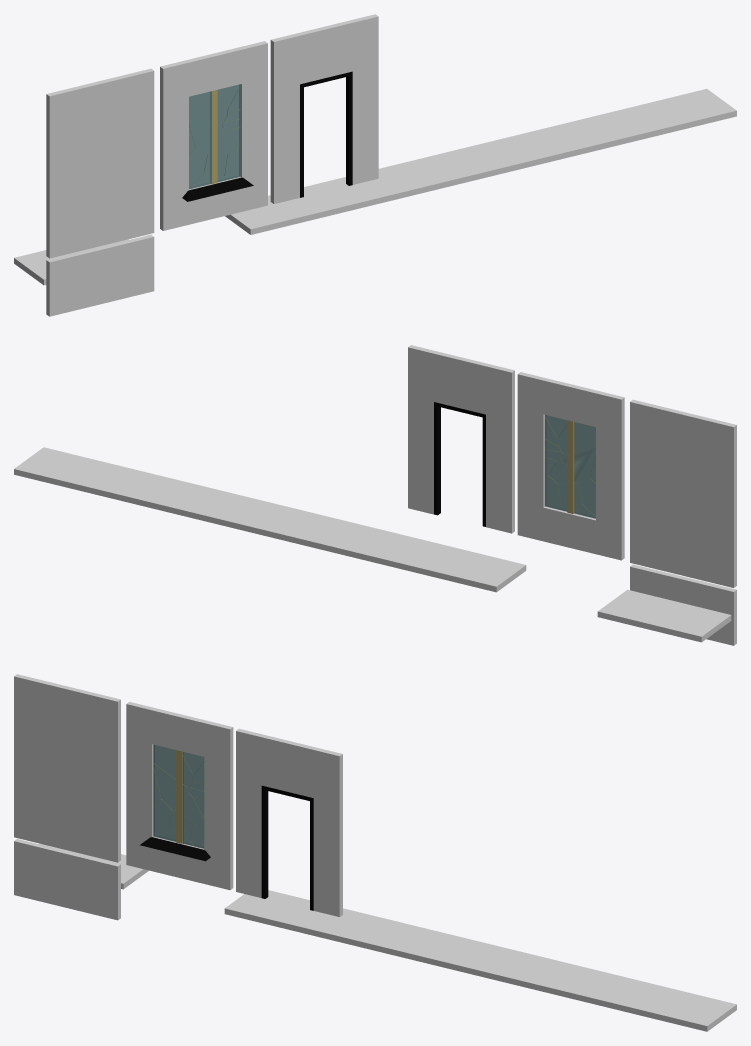
Rendered from BuildPartsTest.fbx.
3 renders of one model, top to bottom at view 1: azimuth 30°, elevation 25°; view 2: azimuth 150°, elevation 25°; view 3: azimuth 330°, elevation 25°, orthographic.
Parts seen in each view (by area): view 1: BuildWall, BuildWindowFrame, BuildDoorFrame1, BuildDown, BuildWindow, BuildFloor_Ceiling1, BuildFrame, BuildFloor_Ceiling1_cell.023, BuildFloor_Ceiling1_cell.009, BuildFloor_Ceiling1_cell.031, BuildFloor_Ceiling, BuildFloor_Ceiling1_cell.016 (+13 smaller); view 2: BuildWindow, BuildFloor_Ceiling, BuildDown, BuildWindowFrame_cell.001, BuildWall_cell.017, BuildWall_cell.008, BuildWall_cell.019, BuildWall_cell.023, BuildFrame, BuildDoorFrame1_cell.008, BuildFloor_Ceiling1_cell.015, BuildFloor_Ceiling1_cell.022 (+52 smaller); view 3: BuildWall, BuildWindowFrame, BuildDoorFrame1, BuildDown, BuildWindow, BuildFloor_Ceiling1, BuildFrame, BuildFloor_Ceiling1_cell.023, BuildFloor_Ceiling1_cell.031, BuildFloor_Ceiling1_cell.009, BuildFloor_Ceiling1_cell.015, BuildFloor_Ceiling1_cell.016 (+10 smaller).
Part boxes in pixels (left/top/right/bottom): BuildWall: left=46, top=71, right=154, bottom=258; BuildWindowFrame: left=160, top=43, right=267, bottom=230; BuildDoorFrame1: left=270, top=16, right=378, bottom=203; BuildDown: left=46, top=234, right=154, bottom=316; BuildWindow: left=189, top=84, right=240, bottom=188; BuildFloor_Ceiling1: left=225, top=105, right=736, bottom=234; BuildFrame: left=300, top=71, right=352, bottom=197; BuildFloor_Ceiling1_cell.023: left=469, top=140, right=530, bottom=169; BuildFloor_Ceiling1_cell.009: left=572, top=119, right=644, bottom=143; BuildFloor_Ceiling1_cell.031: left=242, top=200, right=322, bottom=229; BuildFloor_Ceiling: left=14, top=239, right=128, bottom=285; BuildFloor_Ceiling1_cell.016: left=423, top=163, right=495, bottom=183; BuildWindow: left=545, top=415, right=595, bottom=518; BuildFloor_Ceiling: left=597, top=589, right=731, bottom=642; BuildDown: left=630, top=564, right=736, bottom=645; BuildWindowFrame_cell.001: left=517, top=372, right=543, bottom=450; BuildWall_cell.017: left=688, top=415, right=736, bottom=461; BuildWall_cell.008: left=630, top=399, right=674, bottom=444; BuildWall_cell.019: left=635, top=444, right=686, bottom=482; BuildWall_cell.023: left=687, top=465, right=736, bottom=505; BuildFrame: left=434, top=402, right=485, bottom=526; BuildDoorFrame1_cell.008: left=475, top=377, right=511, bottom=428; BuildFloor_Ceiling1_cell.015: left=306, top=528, right=376, bottom=561; BuildFloor_Ceiling1_cell.022: left=394, top=547, right=455, bottom=578; BuildWall: left=14, top=676, right=120, bottom=862; BuildWindowFrame: left=126, top=704, right=230, bottom=889; BuildDoorFrame1: left=236, top=731, right=342, bottom=916; BuildDown: left=14, top=839, right=120, bottom=920; BuildWindow: left=153, top=745, right=204, bottom=848; BuildFloor_Ceiling1: left=224, top=901, right=707, bottom=1031; BuildFrame: left=261, top=785, right=313, bottom=910; BuildFloor_Ceiling1_cell.023: left=468, top=953, right=529, bottom=974; BuildFloor_Ceiling1_cell.031: left=225, top=901, right=296, bottom=925; BuildFloor_Ceiling1_cell.009: left=572, top=972, right=635, bottom=1003; BuildFloor_Ceiling1_cell.015: left=374, top=916, right=444, bottom=945; BuildFloor_Ceiling1_cell.016: left=410, top=943, right=468, bottom=967.
Bounding box in the file's own units: 3995 × 1214 × 412.
